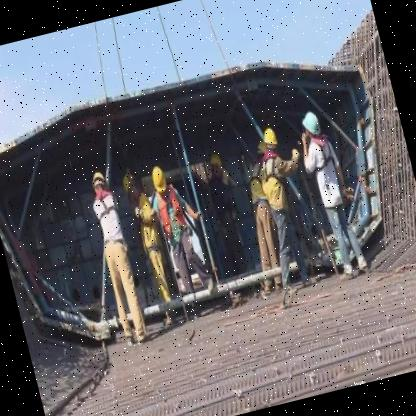capacete: (299, 109, 324, 144), (148, 162, 172, 197), (90, 167, 112, 200), (260, 126, 280, 156), (209, 152, 226, 176)
